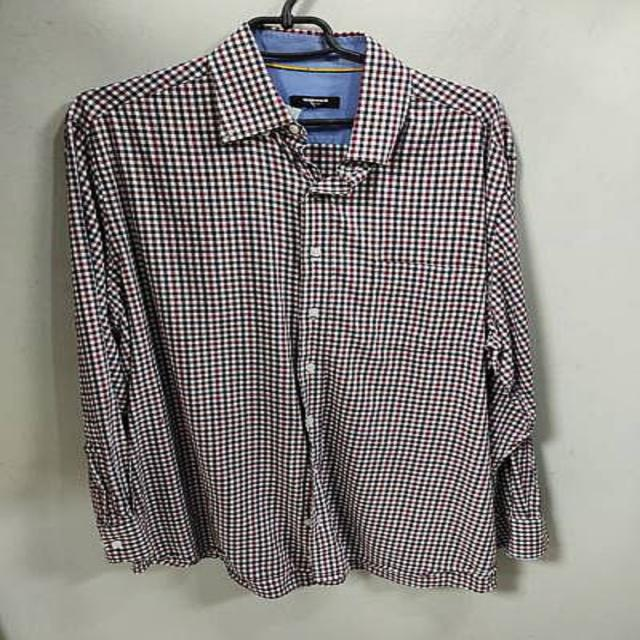SHIRT: (41, 14, 613, 603)
